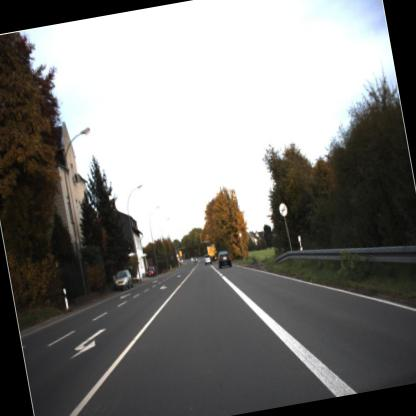other: (274, 199, 293, 222)
